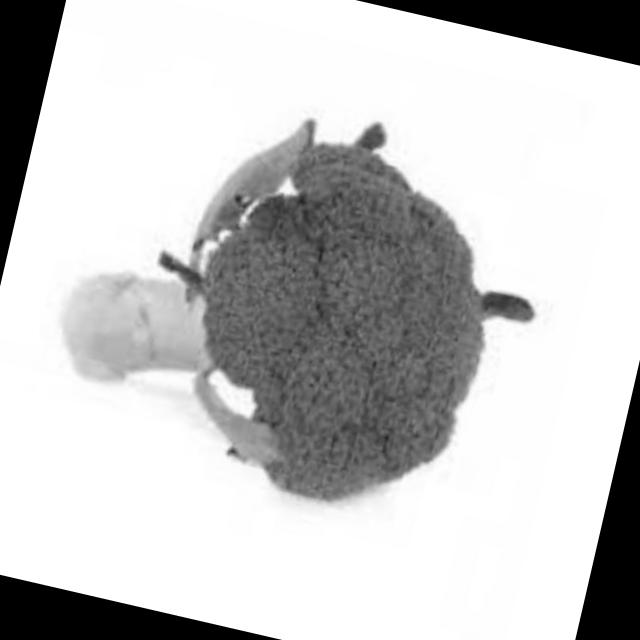bong cai xanh: (7, 48, 563, 529)
